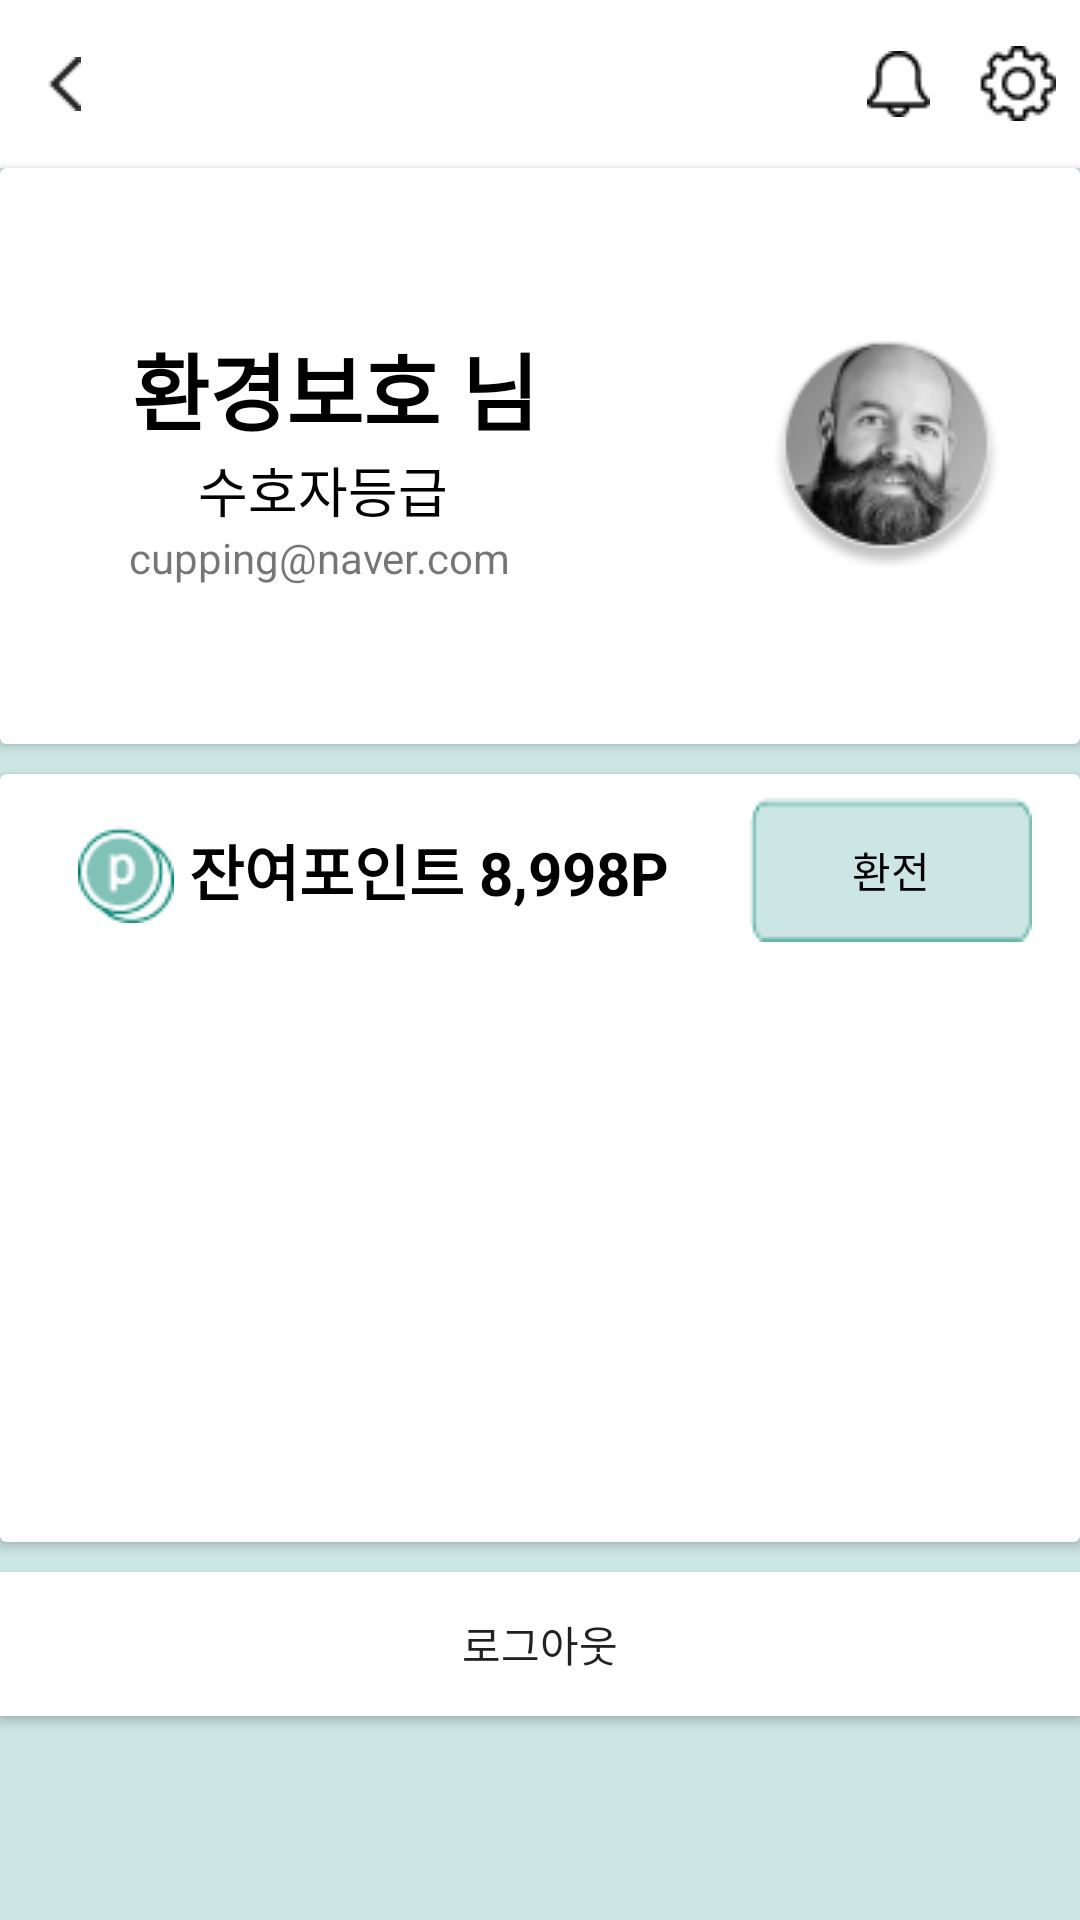

Icon bounding boxes for this 1080 × 1920 phone screenshot, format (x1, y1, x2, y2):
alram: (867, 51, 930, 117)
left arrow: (48, 57, 81, 111)
setting: (980, 46, 1056, 121)
